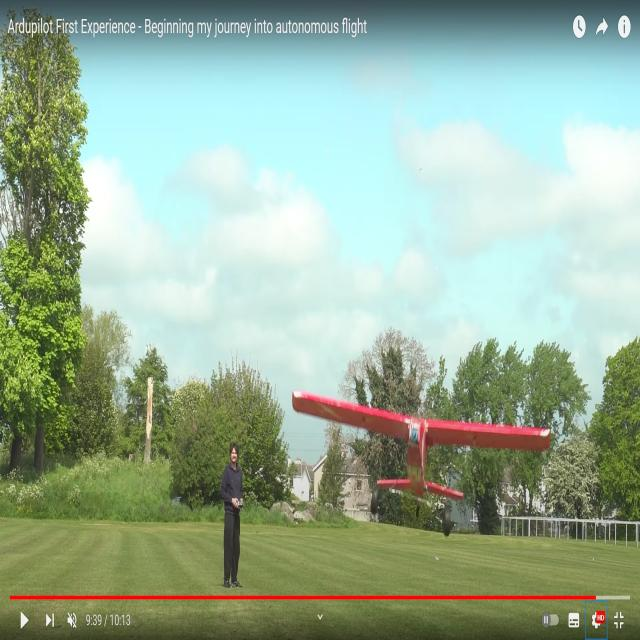iha: (289, 380, 551, 512)
